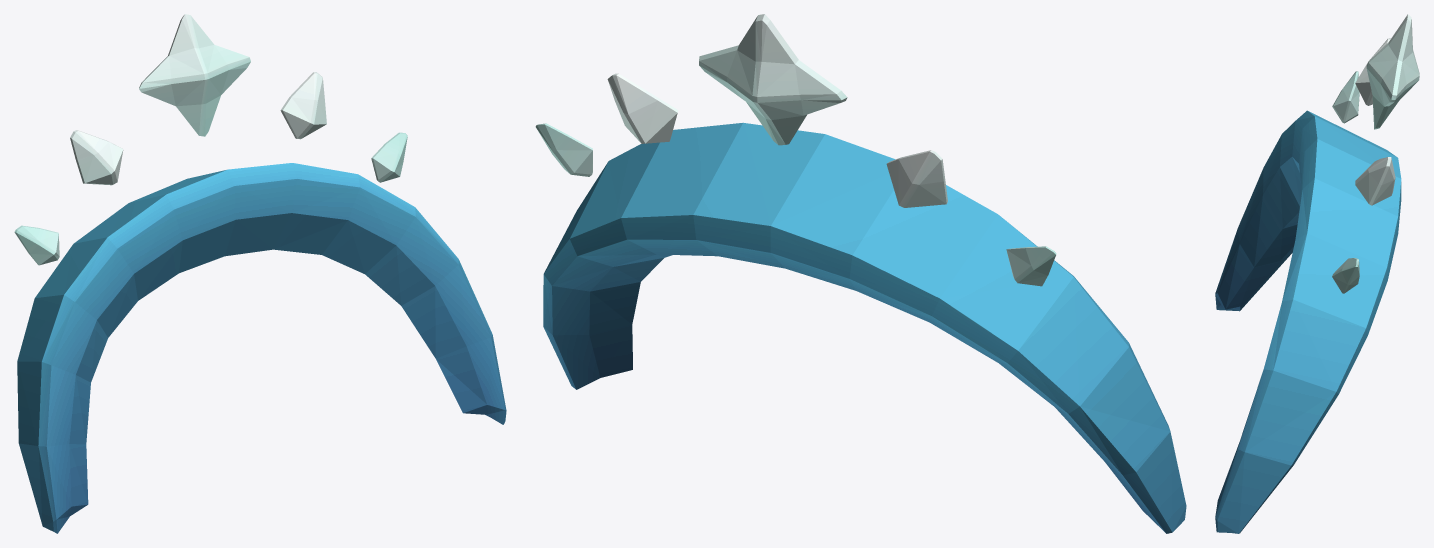
File: CharSkyKid_Horn_BirthdayHat_05.glb
3 renders of one model, left to right at view 1: azimuth 30°, elevation 25°; view 2: azimuth 150°, elevation 25°; view 3: azimuth 270°, elevation 25°, orthographic. The views are drawn at different scales.
Visible parts, largest first — view 1: CharSkyKid_Horn_BirthdayHat_05; view 2: CharSkyKid_Horn_BirthdayHat_05; view 3: CharSkyKid_Horn_BirthdayHat_05.
Part boxes in pixels (x1,y1,x2,y2): CharSkyKid_Horn_BirthdayHat_05: [14, 14, 506, 533]; CharSkyKid_Horn_BirthdayHat_05: [535, 14, 1186, 533]; CharSkyKid_Horn_BirthdayHat_05: [1215, 14, 1419, 533].
Size of the model in its own units: 2.34 by 1.96 by 0.8897.
1 material, 1 textured.
